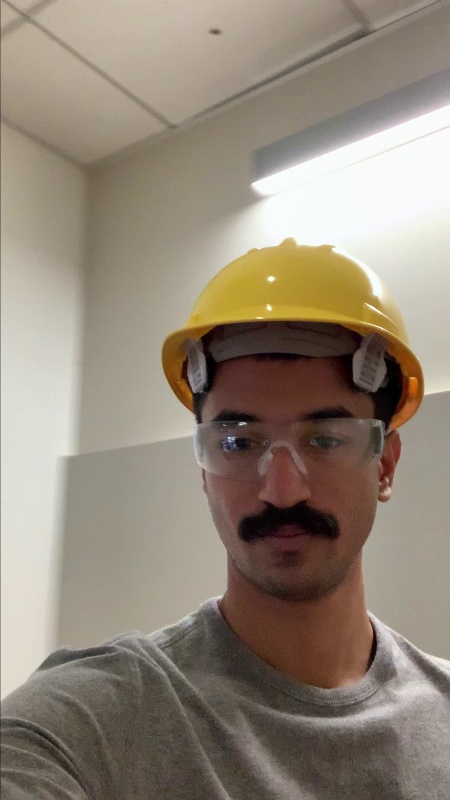glasses: (189, 417, 391, 469)
helmet: (162, 237, 413, 348)
